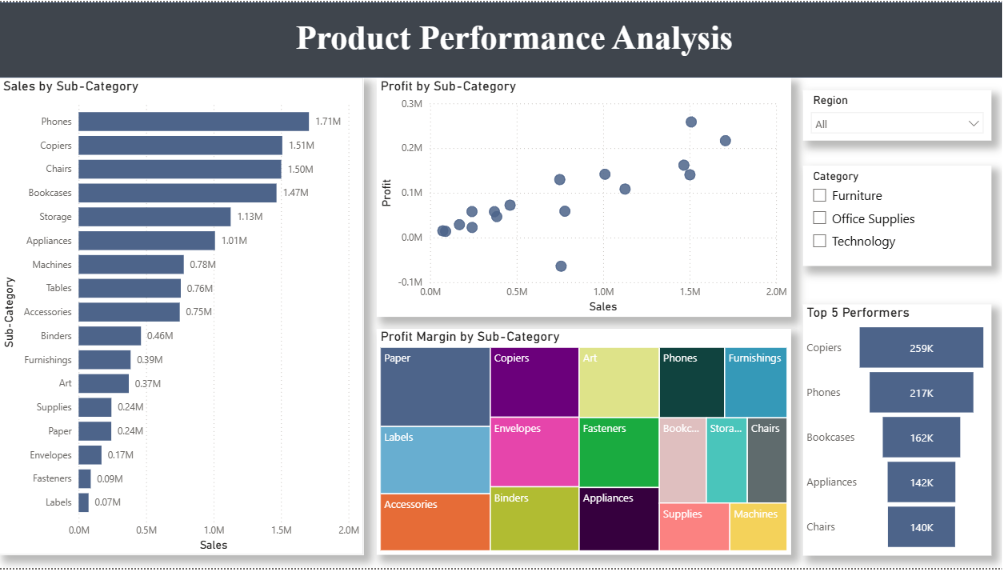

The page's visual inventory and layout, read from the dashboard file:
{"tool":"powerbi","page":{"name":"Product","canvas":[1280,720],"ordinal":1},"visuals":[{"type":"clusteredBarChart","title":"Sales by Sub-Category","fields":{"Category":["Orders.Sub-Category"],"Y":["Sum(Orders.Sales)"]},"box":[0,96,464,608],"z":0},{"type":"shape","box":[0,0,1280,96],"z":1000},{"type":"textbox","box":[208,16,896,80],"z":2000},{"type":"scatterChart","title":"Profit by Sub-Category","fields":{"X":["Sum(Orders.Sales)"],"Y":["Sum(Orders.Profit)"],"Size":["Sum(Customer summary.Total orders)"],"Category":["Orders.Sub-Category"]},"box":[480,96,528,304],"z":3000},{"type":"treemap","fields":{"Group":["Orders.Sub-Category"],"Values":["Orders.Profit Margin"]},"box":[480,416,528,288],"z":4000},{"type":"slicer","title":"Category ","fields":{"Values":["Orders.Category"]},"box":[1024,208,240,128],"z":5000},{"type":"slicer","title":"Region ","fields":{"Values":["Orders.Region"]},"box":[1024,112,240,64],"z":6000},{"type":"funnel","title":"Top 5 Performers","fields":{"Category":["Orders.Sub-Category"],"Y":["Orders.Total profit"]},"box":[1024,384,240,320],"z":7000}]}

Visuals, with their boxes in screenshot pixels (x1, y1, x2, y2), scaled from the page's 1280x720 canvas onto the 1003x571 screenshot:
"Sales by Sub-Category" clusteredBarChart: 0/76/364/558
shape: 0/0/1002/76
textbox: 163/13/865/76
"Profit by Sub-Category" scatterChart: 376/76/790/317
treemap - Orders.Sub-Category x Orders.Profit Margin: 376/330/790/558
"Category " slicer: 802/165/990/266
"Region " slicer: 802/89/990/140
"Top 5 Performers" funnel: 802/305/990/558
